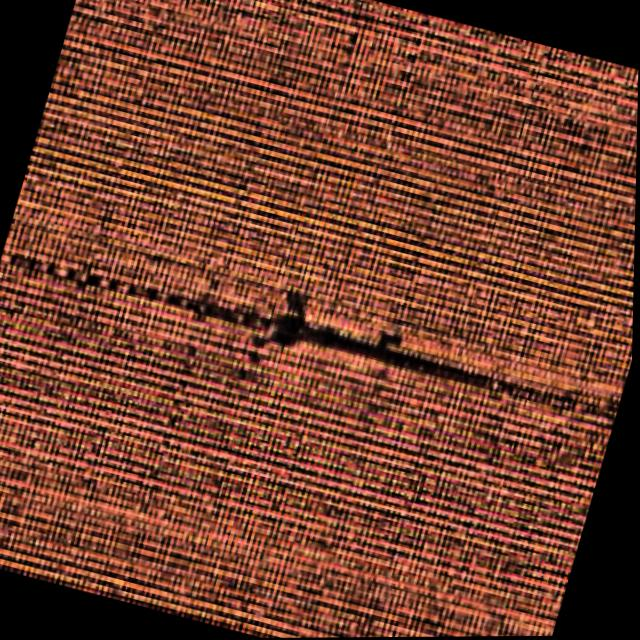Stitch: (256, 273, 427, 411)
